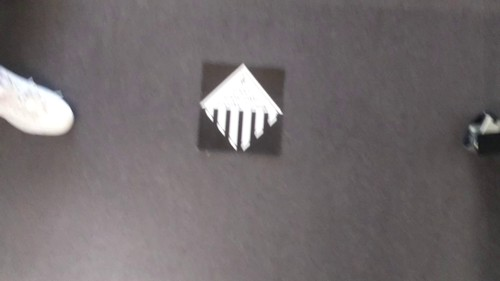misgoods: (196, 63, 290, 154)
